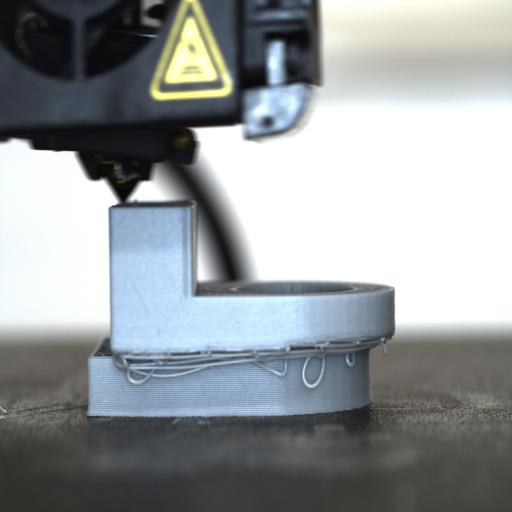layer_shift: (86, 331, 396, 365)
